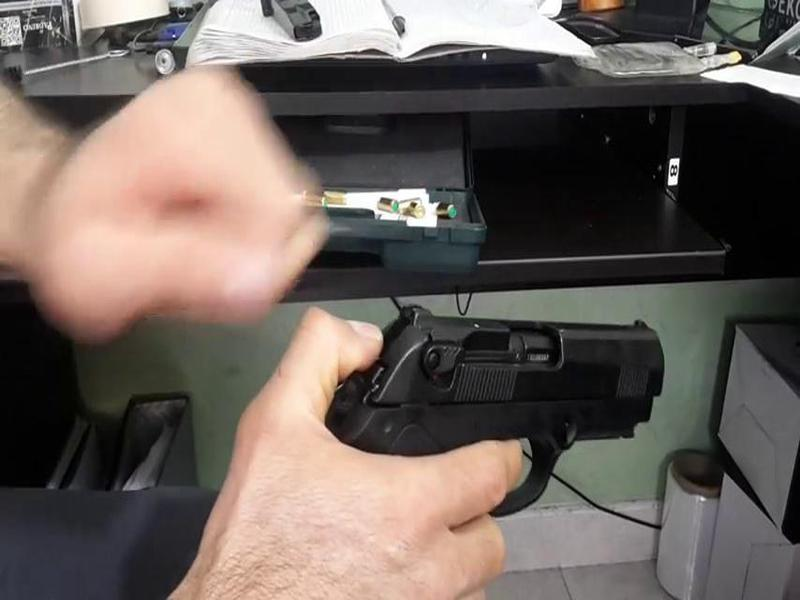Pistola: (292, 282, 677, 556)
